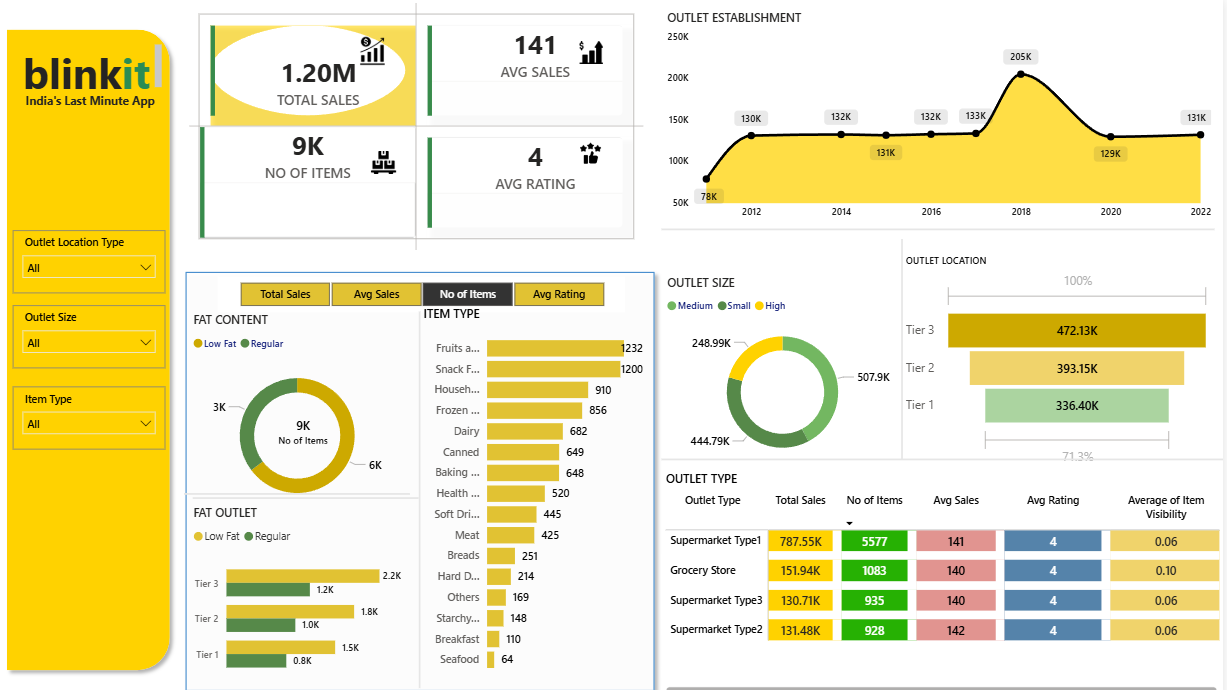

Layout of this report page (visuals, bound fields, positions):
{"tool":"powerbi","page":{"name":"Page 1","canvas":[1400,800],"ordinal":0},"visuals":[{"type":"shape","box":[0,25.5,204.1,750.4],"z":0},{"type":"textbox","box":[16.5,46.5,174.1,66],"z":1000},{"type":"textbox","box":[16.5,102.1,174.1,40.5],"z":2000},{"type":"cardVisual","fields":{"Data":["BlinkIT Grocery Data.Total Sales","BlinkIT Grocery Data.Avg Sales","BlinkIT Grocery Data.No of Items","BlinkIT Grocery Data.Avg Rating"]},"box":[211.6,0,532.8,291.2],"z":3000},{"type":"shape","box":[204.1,303.2,553.8,496.8],"z":4000},{"type":"donutChart","title":"FAT CONTENT","fields":{"Y":["BlinkIT Grocery Data.No of Items"],"Category":["BlinkIT Grocery Data.Item Fat Content"]},"box":[217.6,357.2,247.6,238.6],"z":5000},{"type":"slicer","fields":{"Values":["Metrics.Metrics"]},"box":[250.6,316.7,465.3,40.5],"z":6000},{"type":"cardVisual","fields":{"Data":["BlinkIT Grocery Data.No of Items"]},"box":[289.7,463.8,115.6,61.5],"z":7000},{"type":"clusteredBarChart","title":"FAT OUTLET ","fields":{"Y":["BlinkIT Grocery Data.No of Items"],"Category":["BlinkIT Grocery Data.Outlet Location Type"],"Series":["BlinkIT Grocery Data.Item Fat Content"]},"box":[217.6,577.8,247.6,210.1],"z":8000},{"type":"shape","box":[211.6,552.3,258.1,25.5],"z":9000},{"type":"shape","box":[222.1,562.8,258.1,15],"z":10000},{"type":"shape","box":[465.3,357.2,30,430.7],"z":11000},{"type":"barChart","title":"ITEM TYPE","fields":{"Y":["BlinkIT Grocery Data.No of Items"],"Category":["BlinkIT Grocery Data.Item Type"]},"box":[480.2,350.4,261,429.5],"z":12000},{"type":"shape","box":[757.6,0,642.7,799.3],"z":13000},{"type":"lineChart","title":"OUTLET ESTABLISHMENT","fields":{"Y":["BlinkIT Grocery Data.Total Sales"],"Category":["BlinkIT Grocery Data.Outlet Establishment Year"]},"box":[757.9,12,631.9,249.1],"z":14000},{"type":"donutChart","title":"OUTLET SIZE","fields":{"Y":["BlinkIT Grocery Data.Total Sales"],"Category":["BlinkIT Grocery Data.Outlet Size"]},"box":[757.9,313.7,274,225],"z":15000},{"type":"shape","box":[990.6,274.7,84,252.1],"z":16000},{"type":"funnel","title":"OUTLET LOCATION","fields":{"Y":["Sum(BlinkIT Grocery Data.Sales)"],"Category":["BlinkIT Grocery Data.Outlet Location Type"]},"box":[1032,290.8,357.9,247.6],"z":17000},{"type":"shape","box":[757.6,253.5,632.3,20.9],"z":18000},{"type":"shape","box":[757.6,514.5,642.7,23.9],"z":19000},{"type":"pivotTable","title":"OUTLET TYPE","fields":{"Rows":["BlinkIT Grocery Data.Outlet Type"],"Values":["BlinkIT Grocery Data.Total Sales","BlinkIT Grocery Data.No of Items","BlinkIT Grocery Data.Avg Sales","BlinkIT Grocery Data.Avg Rating","Avg(BlinkIT Grocery Data.Item Visibility)"]},"box":[757.6,538.3,642.7,261],"z":20000},{"type":"slicer","fields":{"Values":["BlinkIT Grocery Data.Outlet Location Type"]},"box":[16.1,264.1,174.3,72.4],"z":21000},{"type":"slicer","fields":{"Values":["BlinkIT Grocery Data.Outlet Size"]},"box":[16.1,349.9,174.3,72.4],"z":22000},{"type":"slicer","fields":{"Values":["BlinkIT Grocery Data.Item Type"]},"box":[16.1,442.4,174.3,72.4],"z":23000},{"type":"image","box":[645.7,47.7,62.6,28.3],"z":23001},{"type":"image","box":[399.7,43.2,53.7,32.8],"z":23002},{"type":"image","box":[384.7,173,110.4,28.3],"z":23003},{"type":"image","box":[653.2,164,46.2,23.9],"z":23004}]}

Visuals, with their boxes in screenshot pixels (x1, y1, x2, y2), scaled from the page's 1400x800 canvas onto the 1227x690 screenshot:
shape: box=[0, 22, 179, 669]
textbox: box=[14, 40, 167, 97]
textbox: box=[14, 88, 167, 123]
cardVisual - BlinkIT Grocery Data.Total Sales x BlinkIT Grocery Data.Avg Sales: box=[185, 0, 652, 251]
shape: box=[179, 262, 664, 689]
"FAT CONTENT" donutChart: box=[191, 308, 408, 514]
slicer - Metrics.Metrics: box=[220, 273, 627, 308]
cardVisual - BlinkIT Grocery Data.No of Items: box=[254, 400, 355, 453]
"FAT OUTLET " clusteredBarChart: box=[191, 498, 408, 680]
shape: box=[185, 476, 412, 498]
shape: box=[195, 485, 421, 498]
shape: box=[408, 308, 434, 680]
"ITEM TYPE" barChart: box=[421, 302, 650, 673]
shape: box=[664, 0, 1226, 689]
"OUTLET ESTABLISHMENT" lineChart: box=[664, 10, 1218, 225]
"OUTLET SIZE" donutChart: box=[664, 271, 904, 465]
shape: box=[868, 237, 942, 454]
"OUTLET LOCATION" funnel: box=[904, 251, 1218, 464]
shape: box=[664, 219, 1218, 237]
shape: box=[664, 444, 1226, 464]
"OUTLET TYPE" pivotTable: box=[664, 464, 1226, 689]
slicer - BlinkIT Grocery Data.Outlet Location Type: box=[14, 228, 167, 290]
slicer - BlinkIT Grocery Data.Outlet Size: box=[14, 302, 167, 364]
slicer - BlinkIT Grocery Data.Item Type: box=[14, 382, 167, 444]
image: box=[566, 41, 621, 66]
image: box=[350, 37, 397, 66]
image: box=[337, 149, 434, 174]
image: box=[572, 141, 613, 162]
